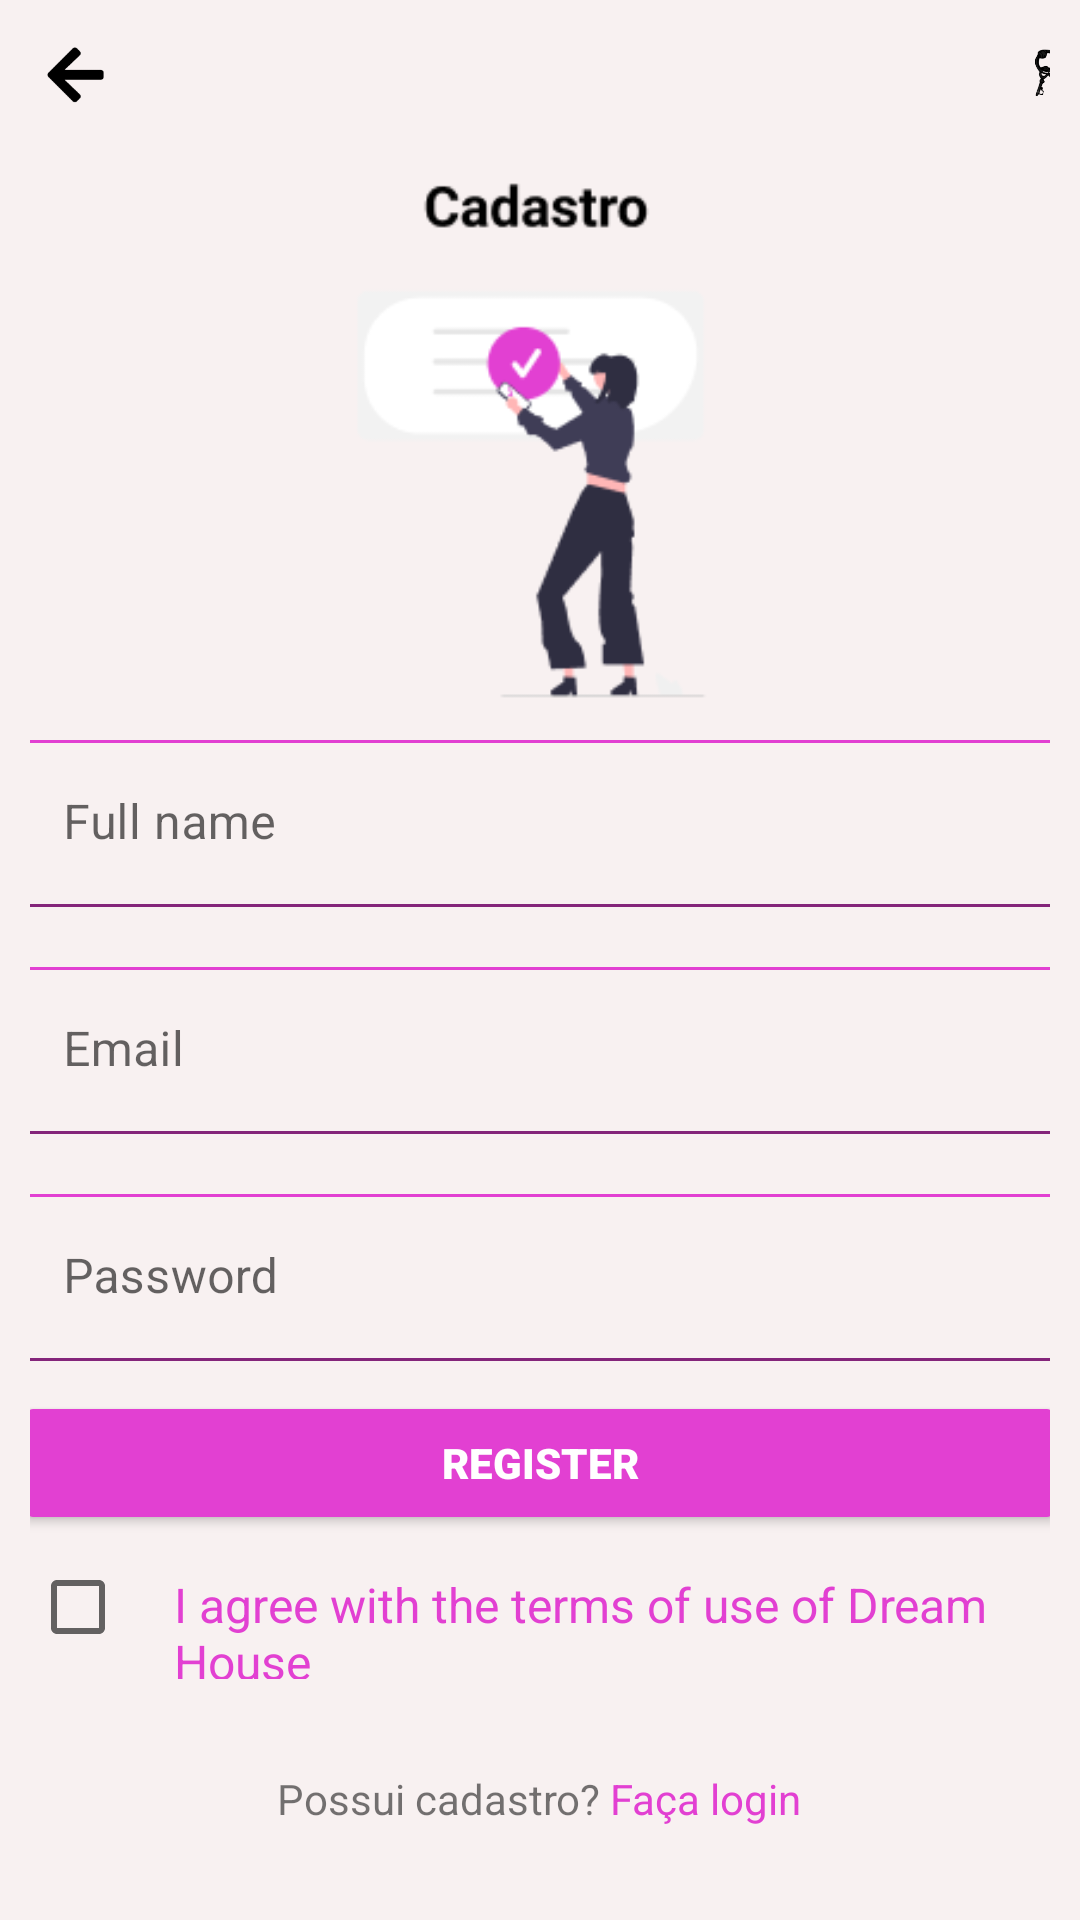

Where to tap for icons on this 1080×1920 app screen, as point (x, y):
back: point (75, 74)
